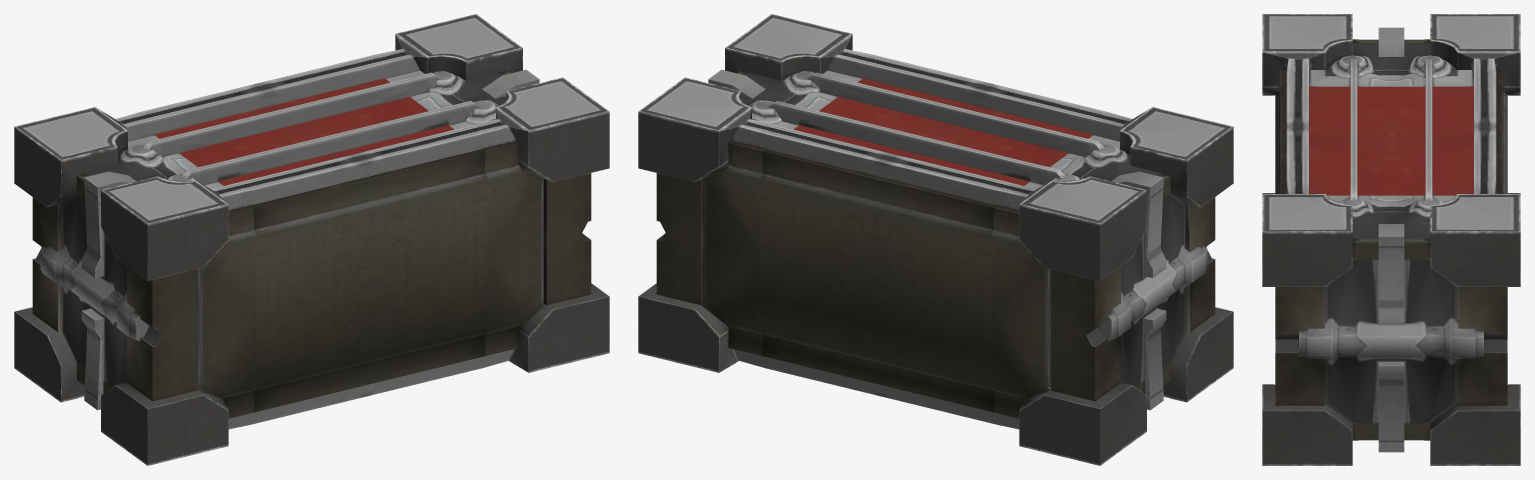
Rendered from Part - block6-BrRcRpQa.glb.
3 views of the same model, side by side, from view 1: azimuth 30°, elevation 25°; view 2: azimuth 150°, elevation 25°; view 3: azimuth 270°, elevation 25° (orthographic). The views are drawn at different scales.
Parts seen in each view (by area): view 1: block6; view 2: block6; view 3: block6.
Part boxes in pixels (box(x1,y1,x2,y2)): block6: box(14, 14, 609, 465); block6: box(638, 14, 1233, 465); block6: box(1262, 14, 1520, 465).
Bounding box in the file's own units: 2 × 1 × 1.
Materials: 1 (1 with a texture image).
